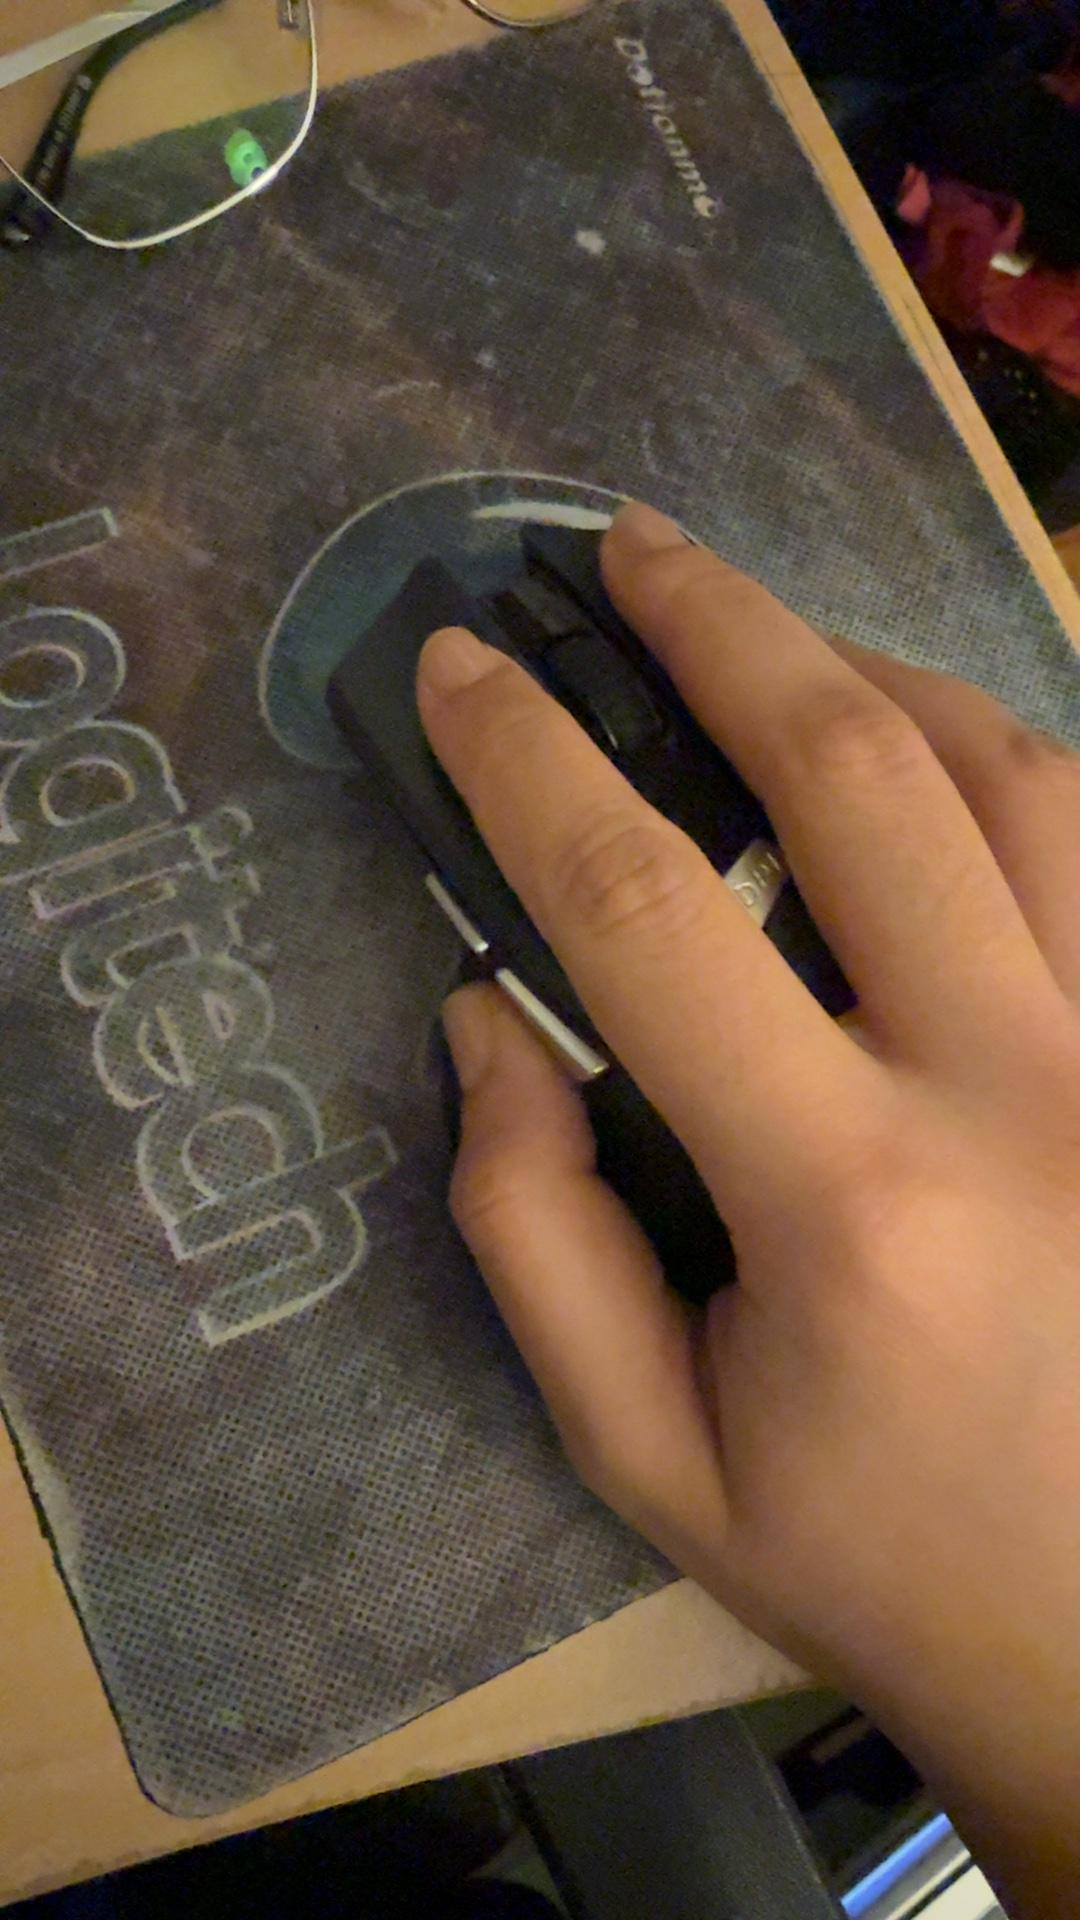Mouse: (276, 533, 785, 1105)
